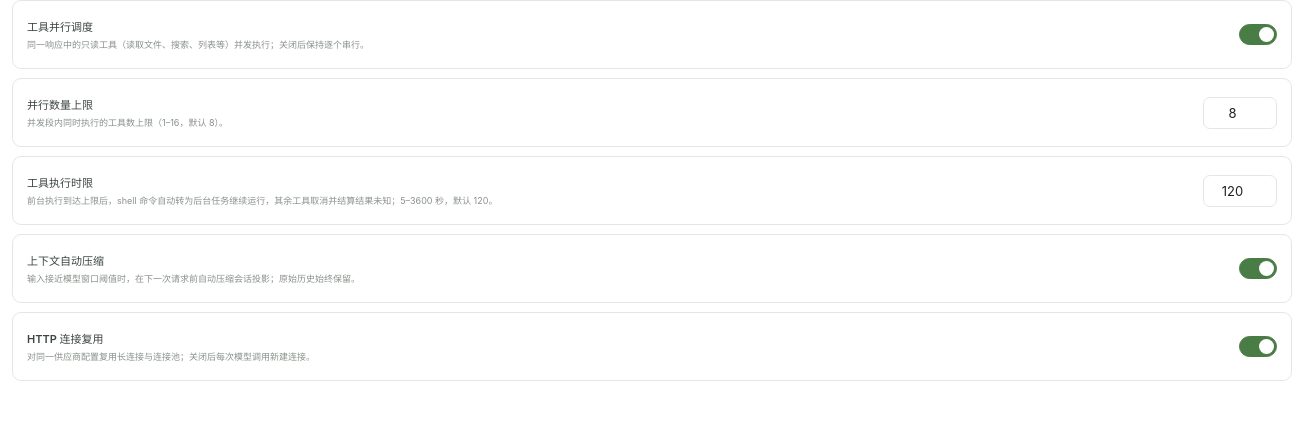
Test: 执行时限越界时提示并回退不保存
Replace the text in the number field named "工具执行时限（秒）" with "3". click: (1240, 190)
box: 1203,174 -> 1277,206
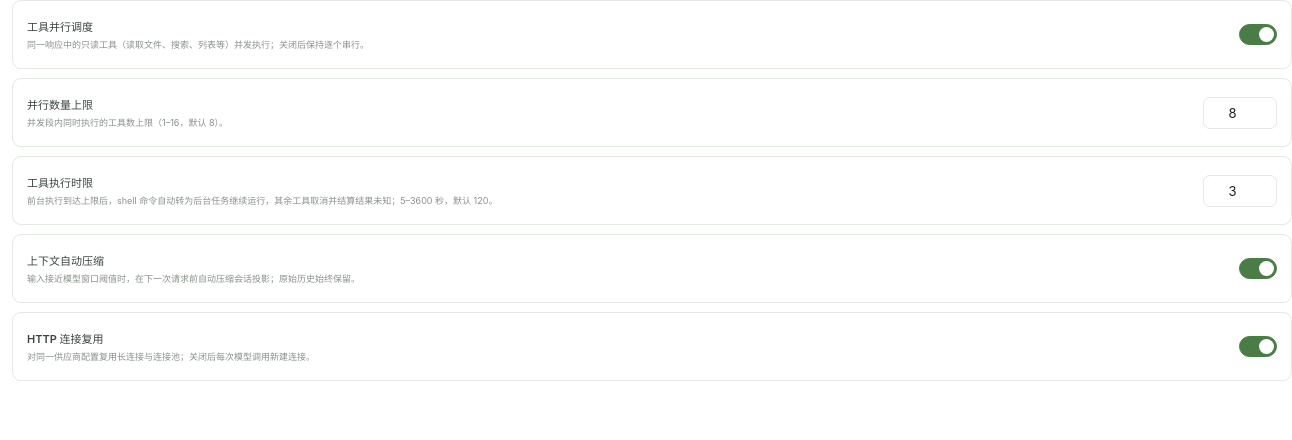
Leave the number field named "工具执行时限（秒）", box 1203,174 -> 1277,206
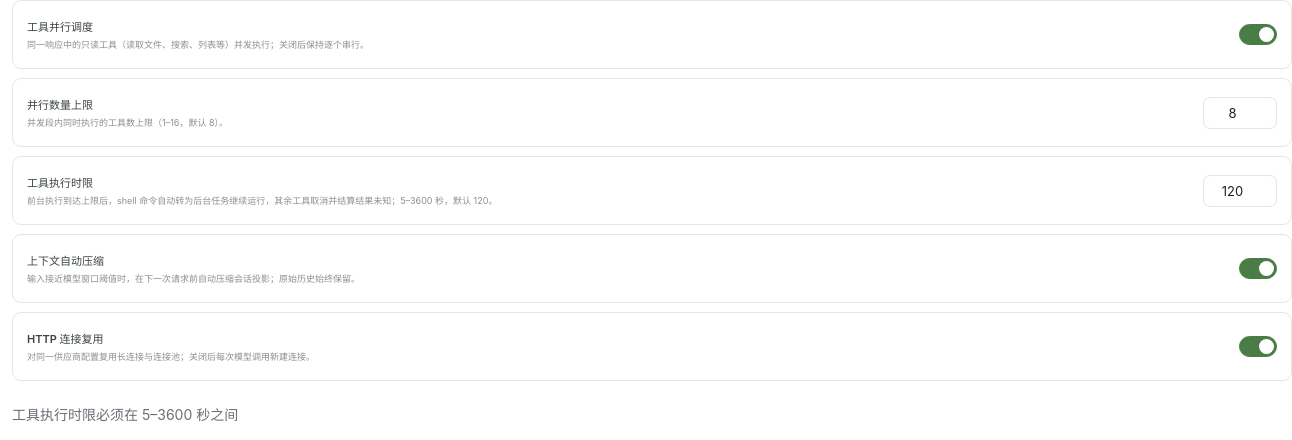
Result: the text "工具执行时限必须在 5–3600 秒之间" is shown at 12,406 -> 238,423
Result: the number field named "工具执行时限（秒）" holds "120" at 1203,174 -> 1277,206
